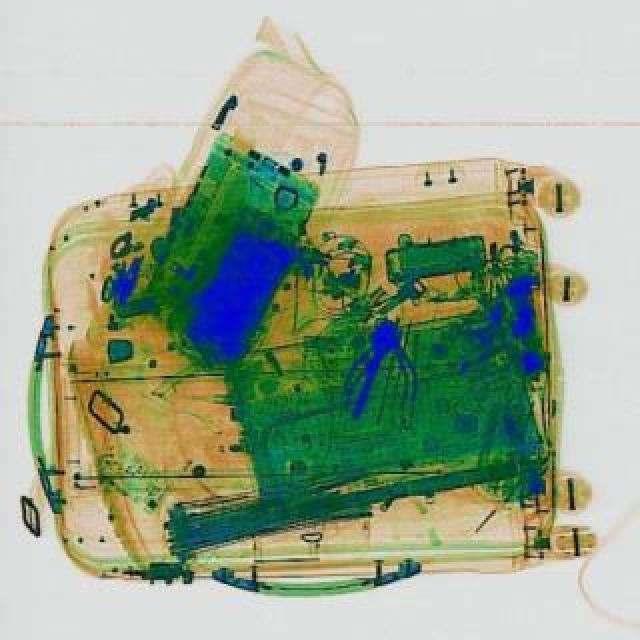wrench: (344, 306, 428, 414), (340, 310, 428, 410)
